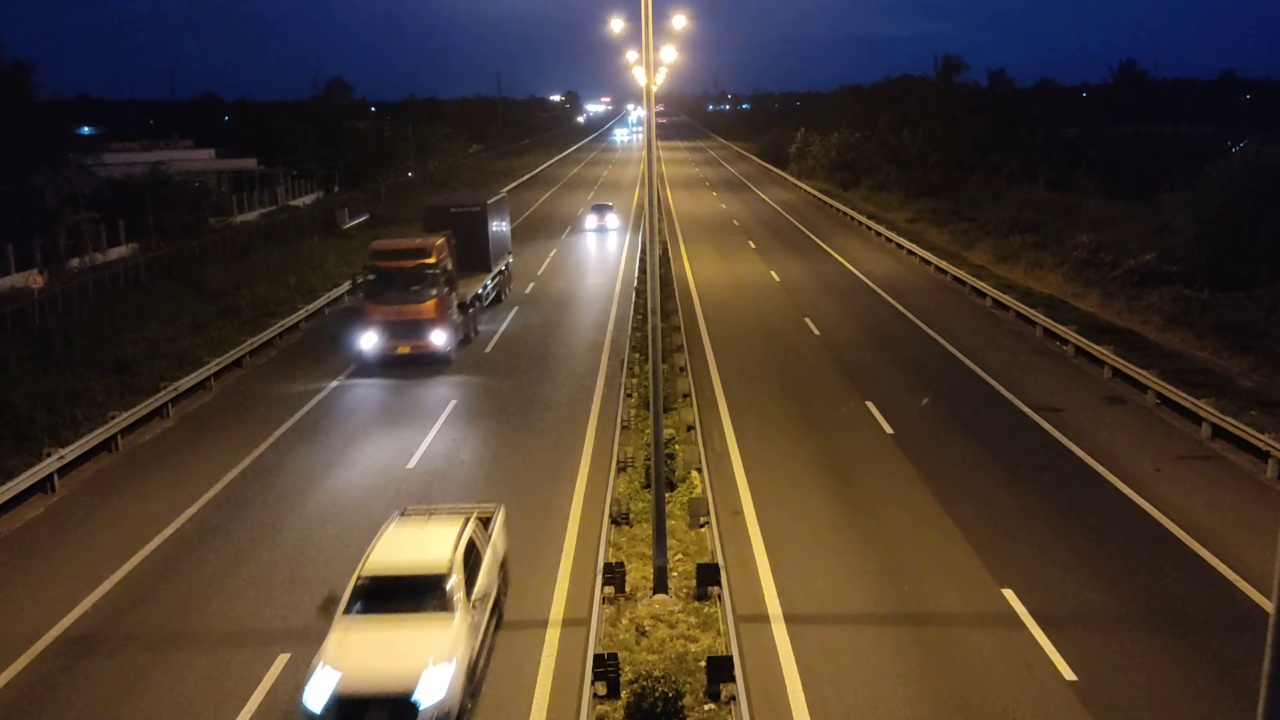car: (298, 501, 511, 719)
truck: (350, 189, 514, 378)
